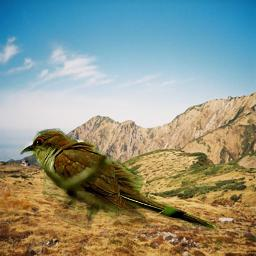Cuckoo: (20, 128, 219, 231)
